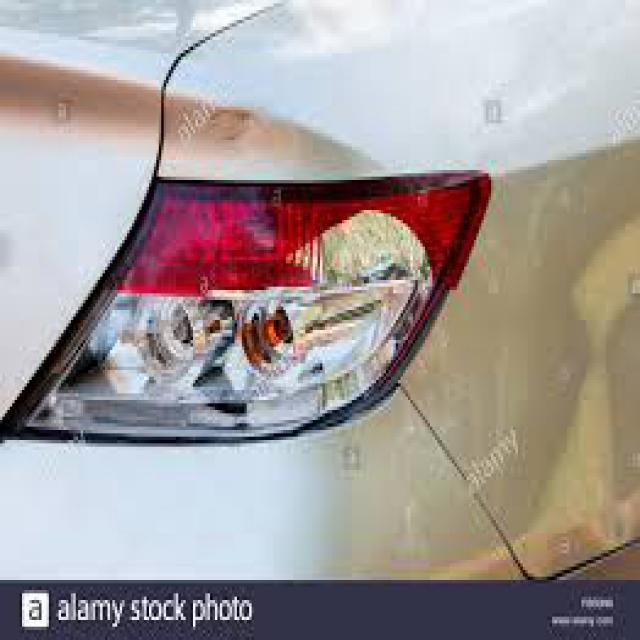Taillight-Damage: (32, 143, 491, 450)
